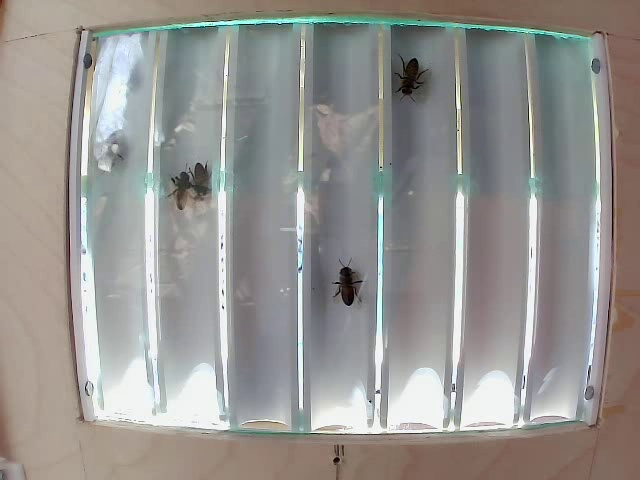bee: (326, 239, 368, 322), (396, 61, 430, 99), (164, 168, 188, 219), (190, 163, 216, 208)
